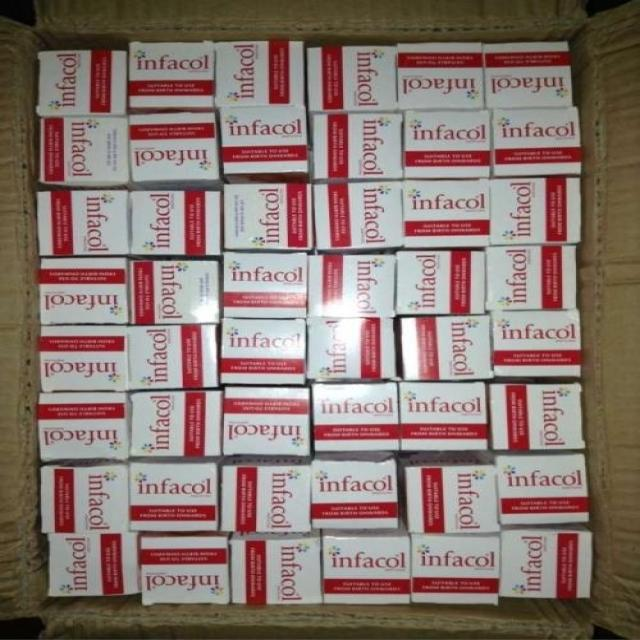box: (3, 0, 637, 638), (402, 449, 499, 531), (128, 109, 223, 190), (488, 450, 590, 525), (215, 453, 313, 530), (130, 451, 221, 533), (311, 447, 402, 527), (311, 177, 406, 253), (218, 107, 312, 183), (498, 520, 592, 595), (406, 531, 501, 604), (41, 388, 130, 464), (484, 382, 586, 448), (137, 532, 230, 604), (126, 187, 223, 256), (491, 309, 580, 384), (230, 532, 324, 603), (41, 114, 131, 188), (491, 105, 581, 177), (42, 461, 132, 533), (307, 381, 399, 451), (125, 323, 222, 389), (222, 386, 312, 457), (398, 316, 495, 381), (492, 174, 582, 244), (222, 181, 313, 250), (323, 529, 410, 601), (398, 381, 490, 449), (310, 112, 403, 179), (36, 188, 129, 255), (402, 109, 491, 179), (403, 178, 492, 248), (130, 39, 216, 111), (394, 42, 485, 110), (130, 390, 223, 456), (485, 245, 580, 309), (40, 255, 128, 323), (215, 40, 304, 107), (125, 260, 218, 324), (306, 45, 396, 111), (486, 39, 572, 108), (221, 318, 308, 386), (308, 316, 396, 383), (37, 51, 128, 115), (394, 249, 485, 313), (304, 253, 394, 317), (40, 323, 125, 389), (221, 253, 307, 317), (47, 534, 137, 595)
